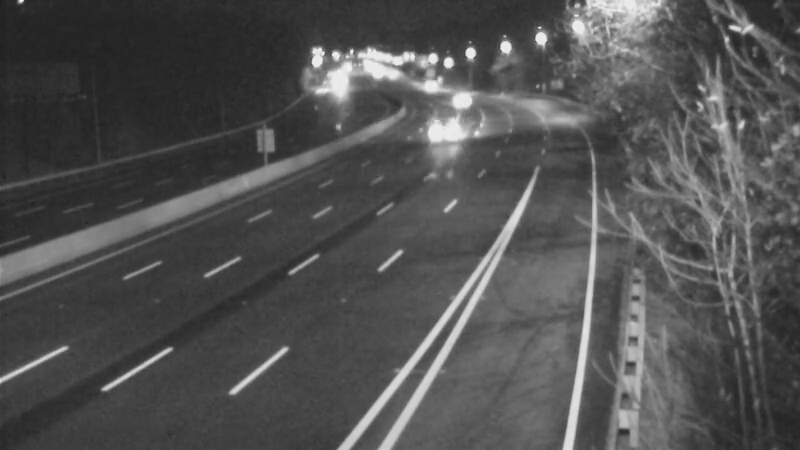vehicle: (363, 49, 413, 99), (403, 59, 453, 109), (437, 72, 487, 122), (420, 105, 470, 155)
